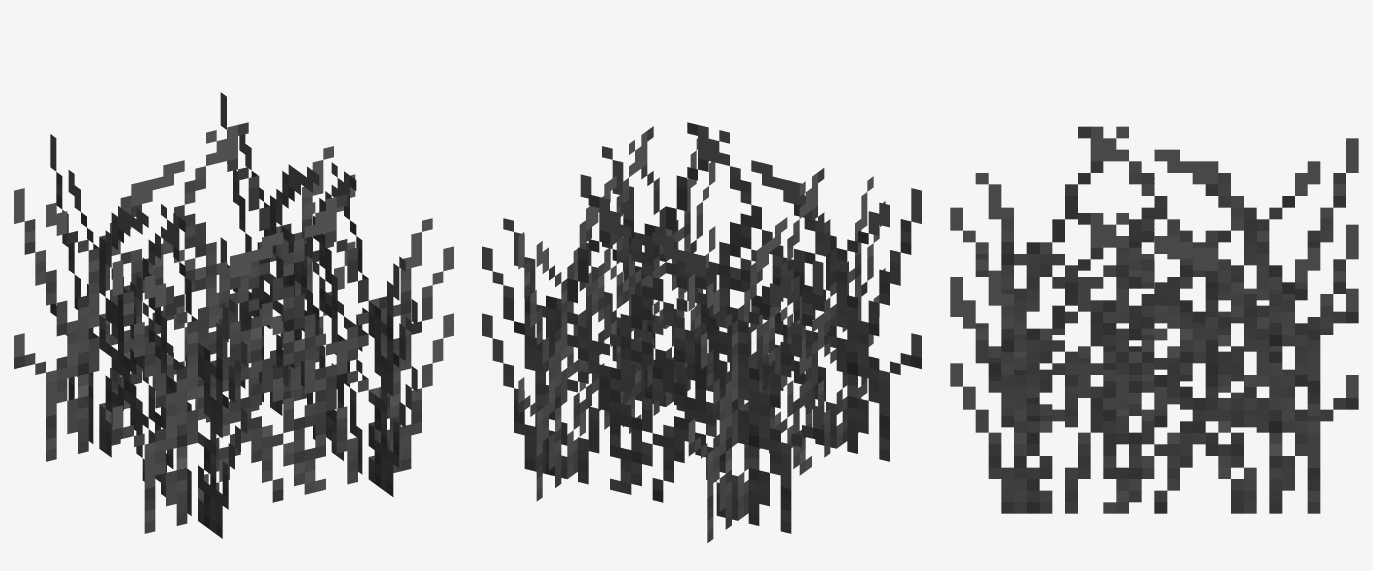
The model's file is cropGrowth8.obj.
The picture shows the model from 3 angles, left to right: view 1: azimuth 30°, elevation 25°; view 2: azimuth 150°, elevation 25°; view 3: azimuth 270°, elevation 25°; orthographic projection. The views are drawn at different scales.
Parts seen in each view (by area): view 1: westFace, northFace, eastFace, southFace; view 2: westFace, northFace, eastFace, southFace; view 3: northFace, southFace.
Boxes of the visible parts, bbox=[...] form: westFace: bbox=[14, 122, 453, 533]; northFace: bbox=[50, 92, 417, 538]; eastFace: bbox=[124, 123, 453, 432]; southFace: bbox=[112, 162, 415, 504]; westFace: bbox=[482, 122, 921, 533]; northFace: bbox=[518, 126, 885, 542]; eastFace: bbox=[482, 123, 805, 431]; southFace: bbox=[580, 127, 885, 390]; northFace: bbox=[950, 126, 1358, 513]; southFace: bbox=[952, 129, 1229, 476].
Size of the model in its own units: 1 by 1 by 1.
1 material, 1 textured.
